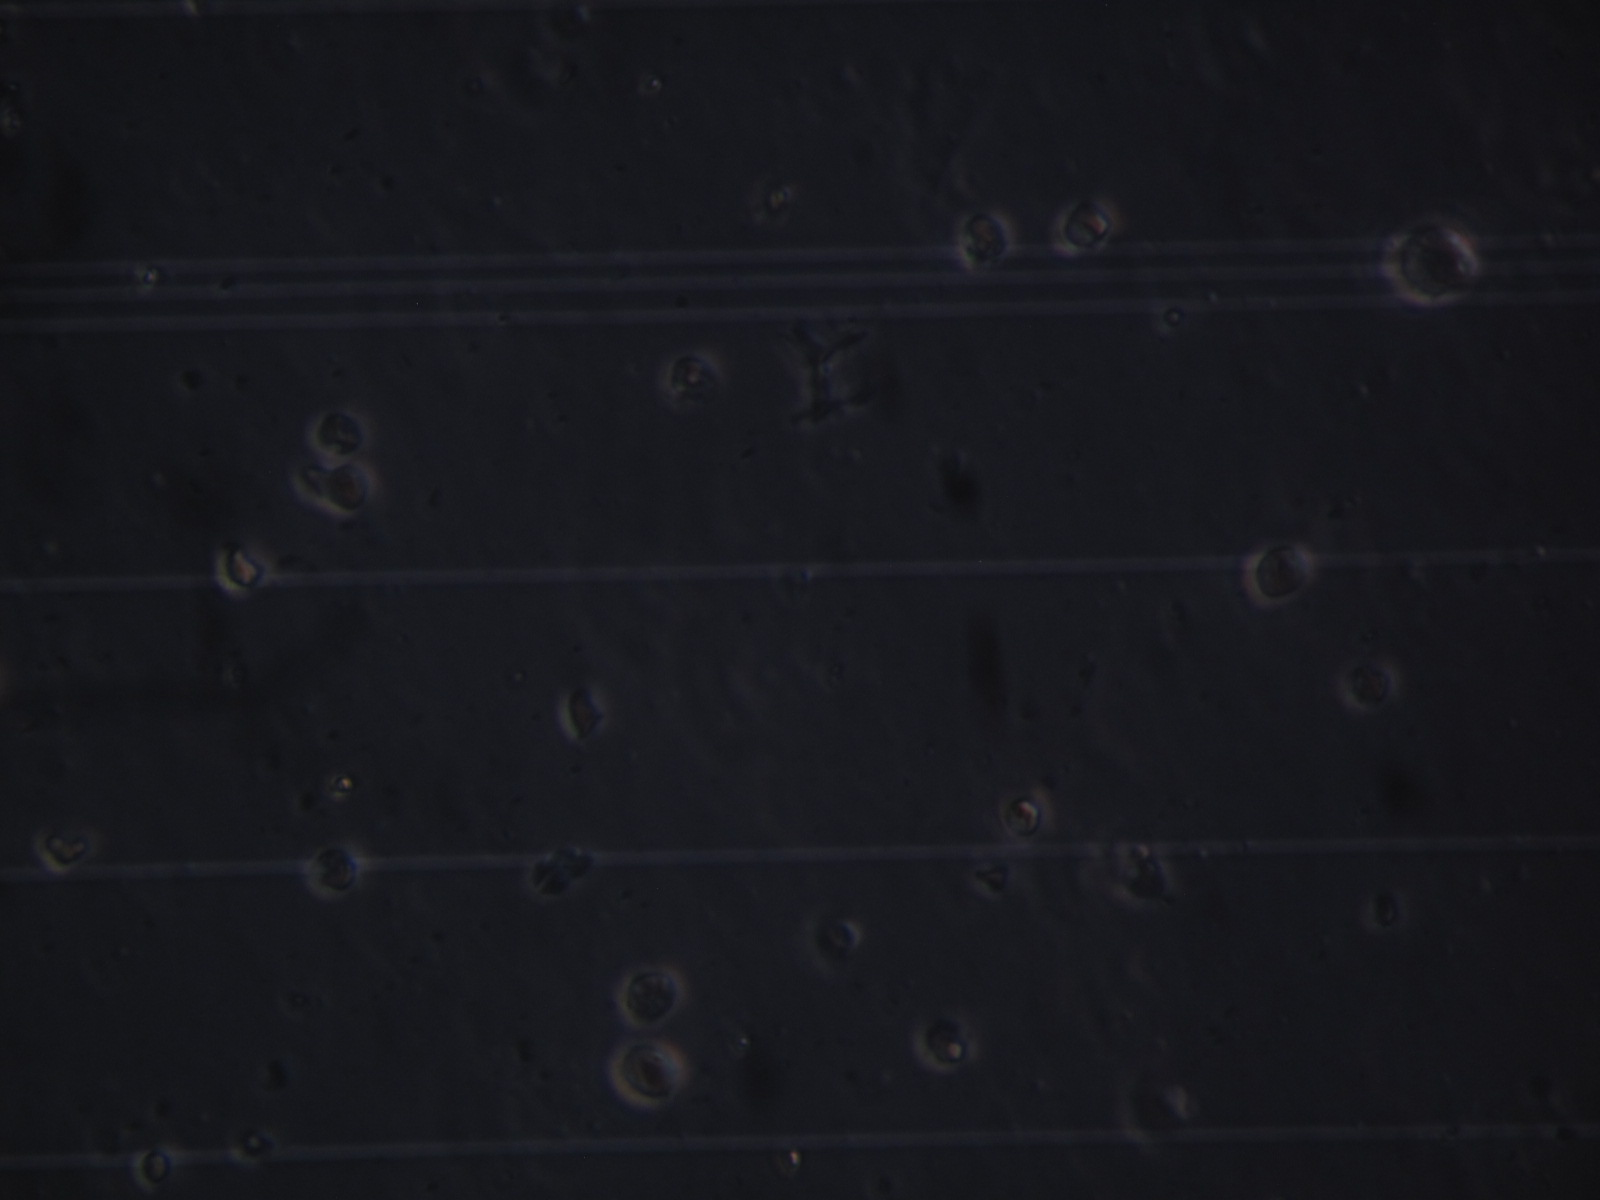hemo: (1382, 219, 1482, 304), (610, 1037, 685, 1107), (1245, 537, 1315, 609), (806, 905, 873, 981), (912, 1010, 978, 1076), (615, 966, 685, 1026), (1049, 197, 1121, 253), (664, 348, 724, 410), (999, 783, 1057, 846), (319, 456, 378, 517), (304, 839, 365, 897), (1340, 654, 1400, 712), (215, 541, 275, 597), (554, 682, 611, 740), (311, 403, 372, 458), (960, 209, 1014, 270), (31, 822, 94, 872), (131, 1146, 179, 1192)
